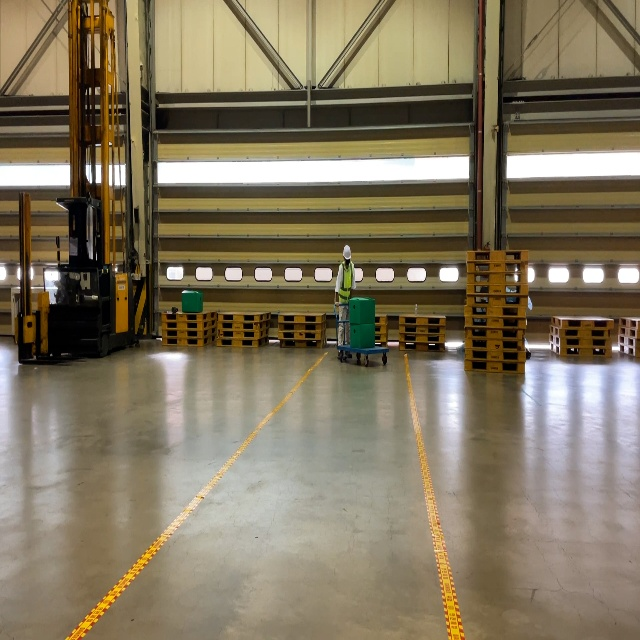Box: (350, 296, 375, 324), (350, 323, 375, 349)
Worker: (334, 245, 356, 360)
